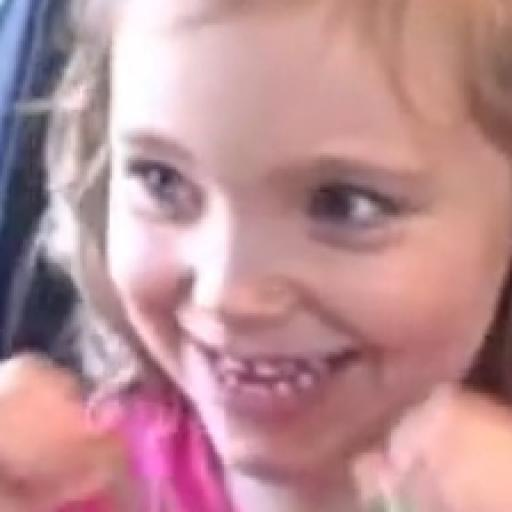Autism: (15, 17, 512, 512)
